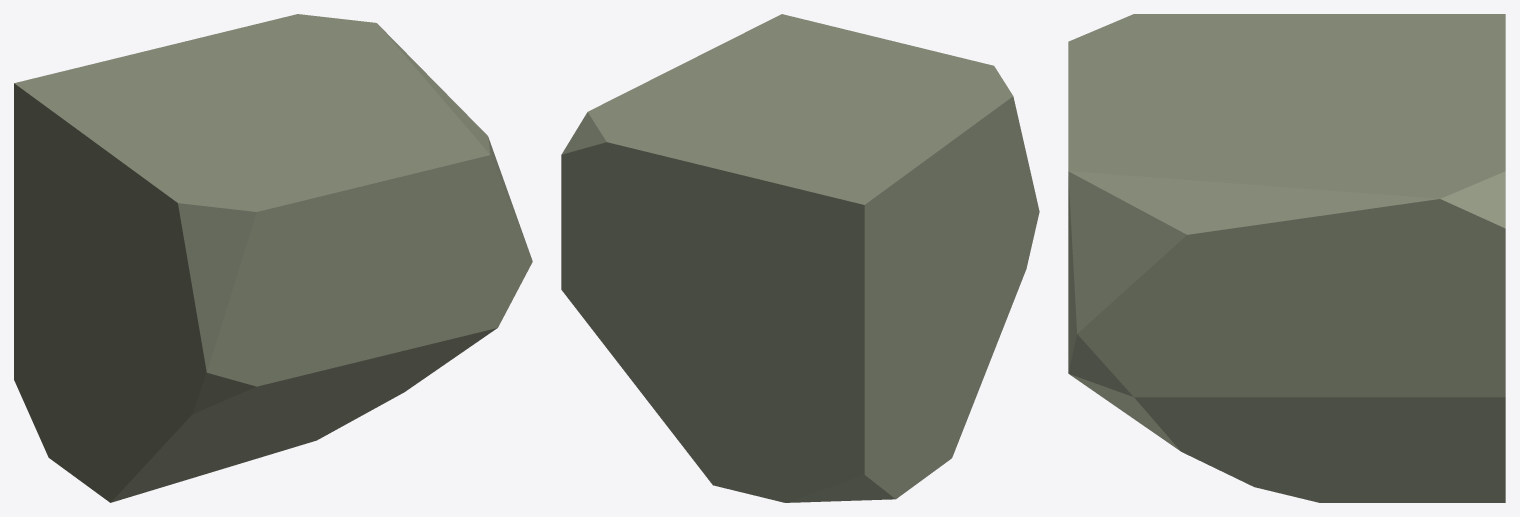
The model's file is pillar_corner_top.fbx.
3 views of the same model, side by side, from view 1: azimuth 30°, elevation 25°; view 2: azimuth 150°, elevation 25°; view 3: azimuth 270°, elevation 25° (orthographic). The views are drawn at different scales.
Visible parts, largest first — view 1: pillar_corner_top; view 2: pillar_corner_top; view 3: pillar_corner_top.
Boxes of the visible parts, box(x1,y1,x2,y2) form: pillar_corner_top: box(14, 14, 532, 502); pillar_corner_top: box(561, 14, 1039, 502); pillar_corner_top: box(1068, 14, 1505, 502).
Size of the model in its own units: 50 by 50 by 50.
